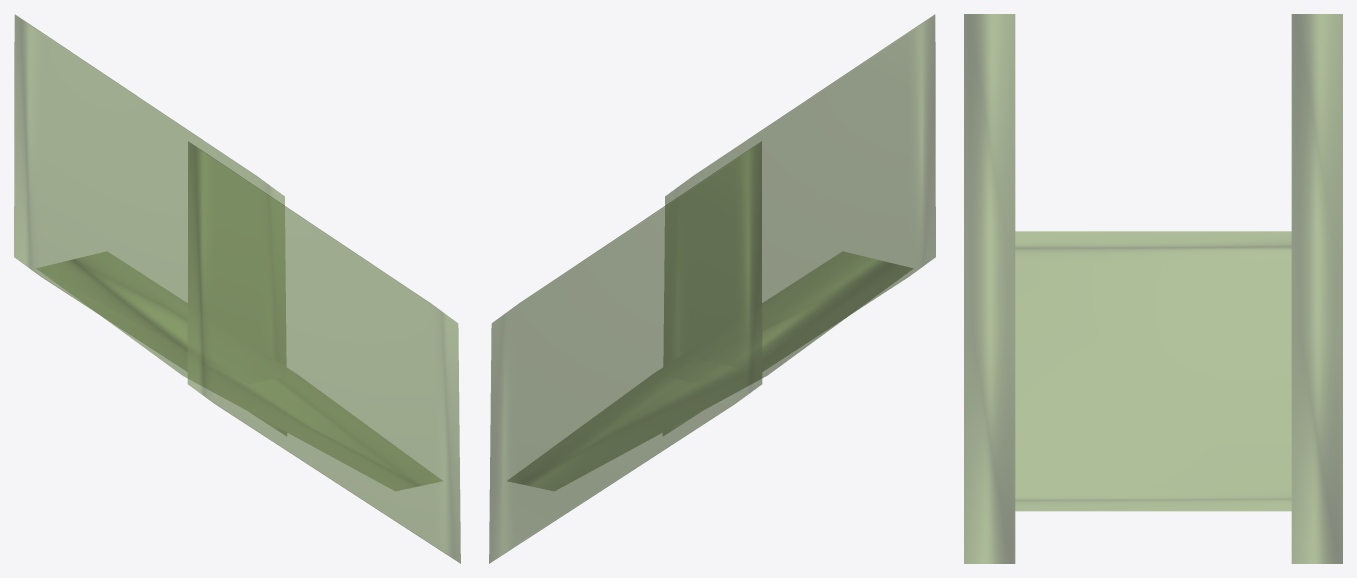
The model's file is mid_stairs_COL.fbx.
3 views of the same model, side by side, from view 1: azimuth 30°, elevation 25°; view 2: azimuth 150°, elevation 25°; view 3: azimuth 270°, elevation 25° (orthographic). The views are drawn at different scales.
Visible parts, largest first — view 1: mid_stairs_COL; view 2: mid_stairs_COL; view 3: mid_stairs_COL.
Part boxes in pixels (x1=…): mid_stairs_COL: x1=14, y1=14, x2=460, y2=563; mid_stairs_COL: x1=489, y1=14, x2=935, y2=563; mid_stairs_COL: x1=964, y1=14, x2=1342, y2=563.
Bounding box in the file's own units: 260 × 441 × 347.
